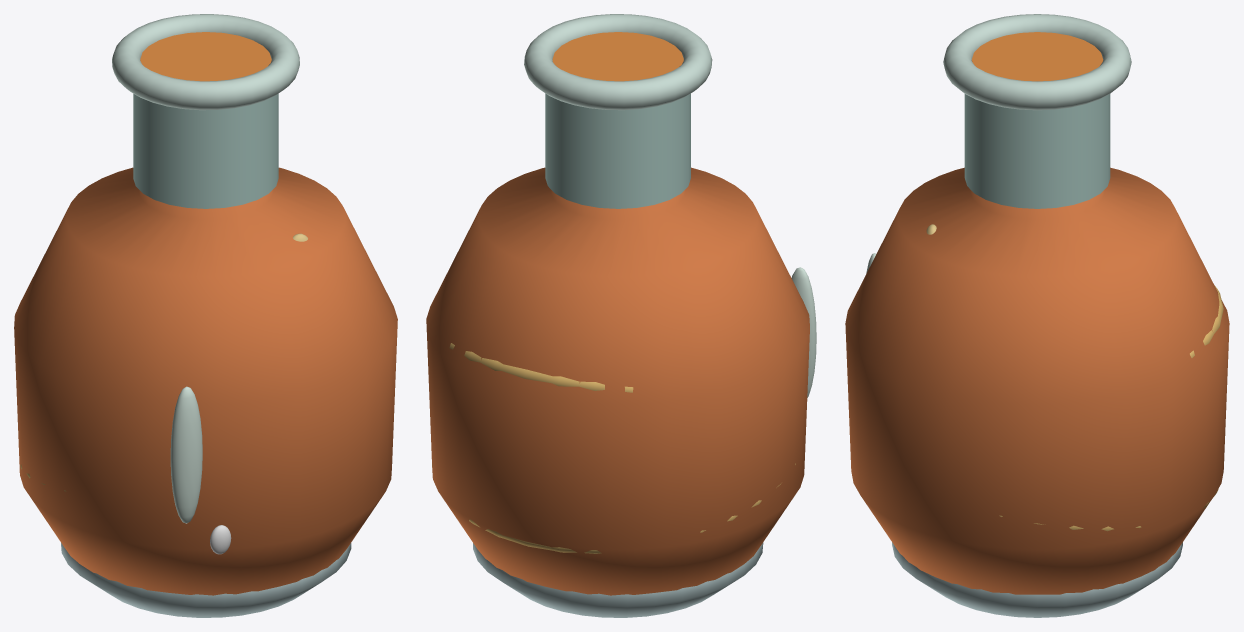
Rendered from embertonic.glb.
3 renders of one model, left to right at view 1: azimuth 30°, elevation 25°; view 2: azimuth 150°, elevation 25°; view 3: azimuth 270°, elevation 25°, orthographic.
Parts seen in each view (by area): view 1: _ember-infusion_infusion, _bottle_cyl; view 2: _ember-infusion_infusion, _bottle_cyl, _warm-swirl_ember_glow; view 3: _ember-infusion_infusion, _bottle_cyl, _warm-swirl_ember_glow.
Part boxes in pixels (x1,y1,x2,y2): _ember-infusion_infusion: (14, 167, 397, 595); _bottle_cyl: (61, 14, 351, 617); _ember-infusion_infusion: (426, 167, 809, 595); _bottle_cyl: (473, 14, 816, 617); _warm-swirl_ember_glow: (432, 343, 795, 553); _ember-infusion_infusion: (845, 167, 1229, 594); _bottle_cyl: (866, 14, 1182, 617); _warm-swirl_ember_glow: (926, 224, 1223, 531).
Bounding box in the file's own units: 0.66 × 0.99 × 0.66.
